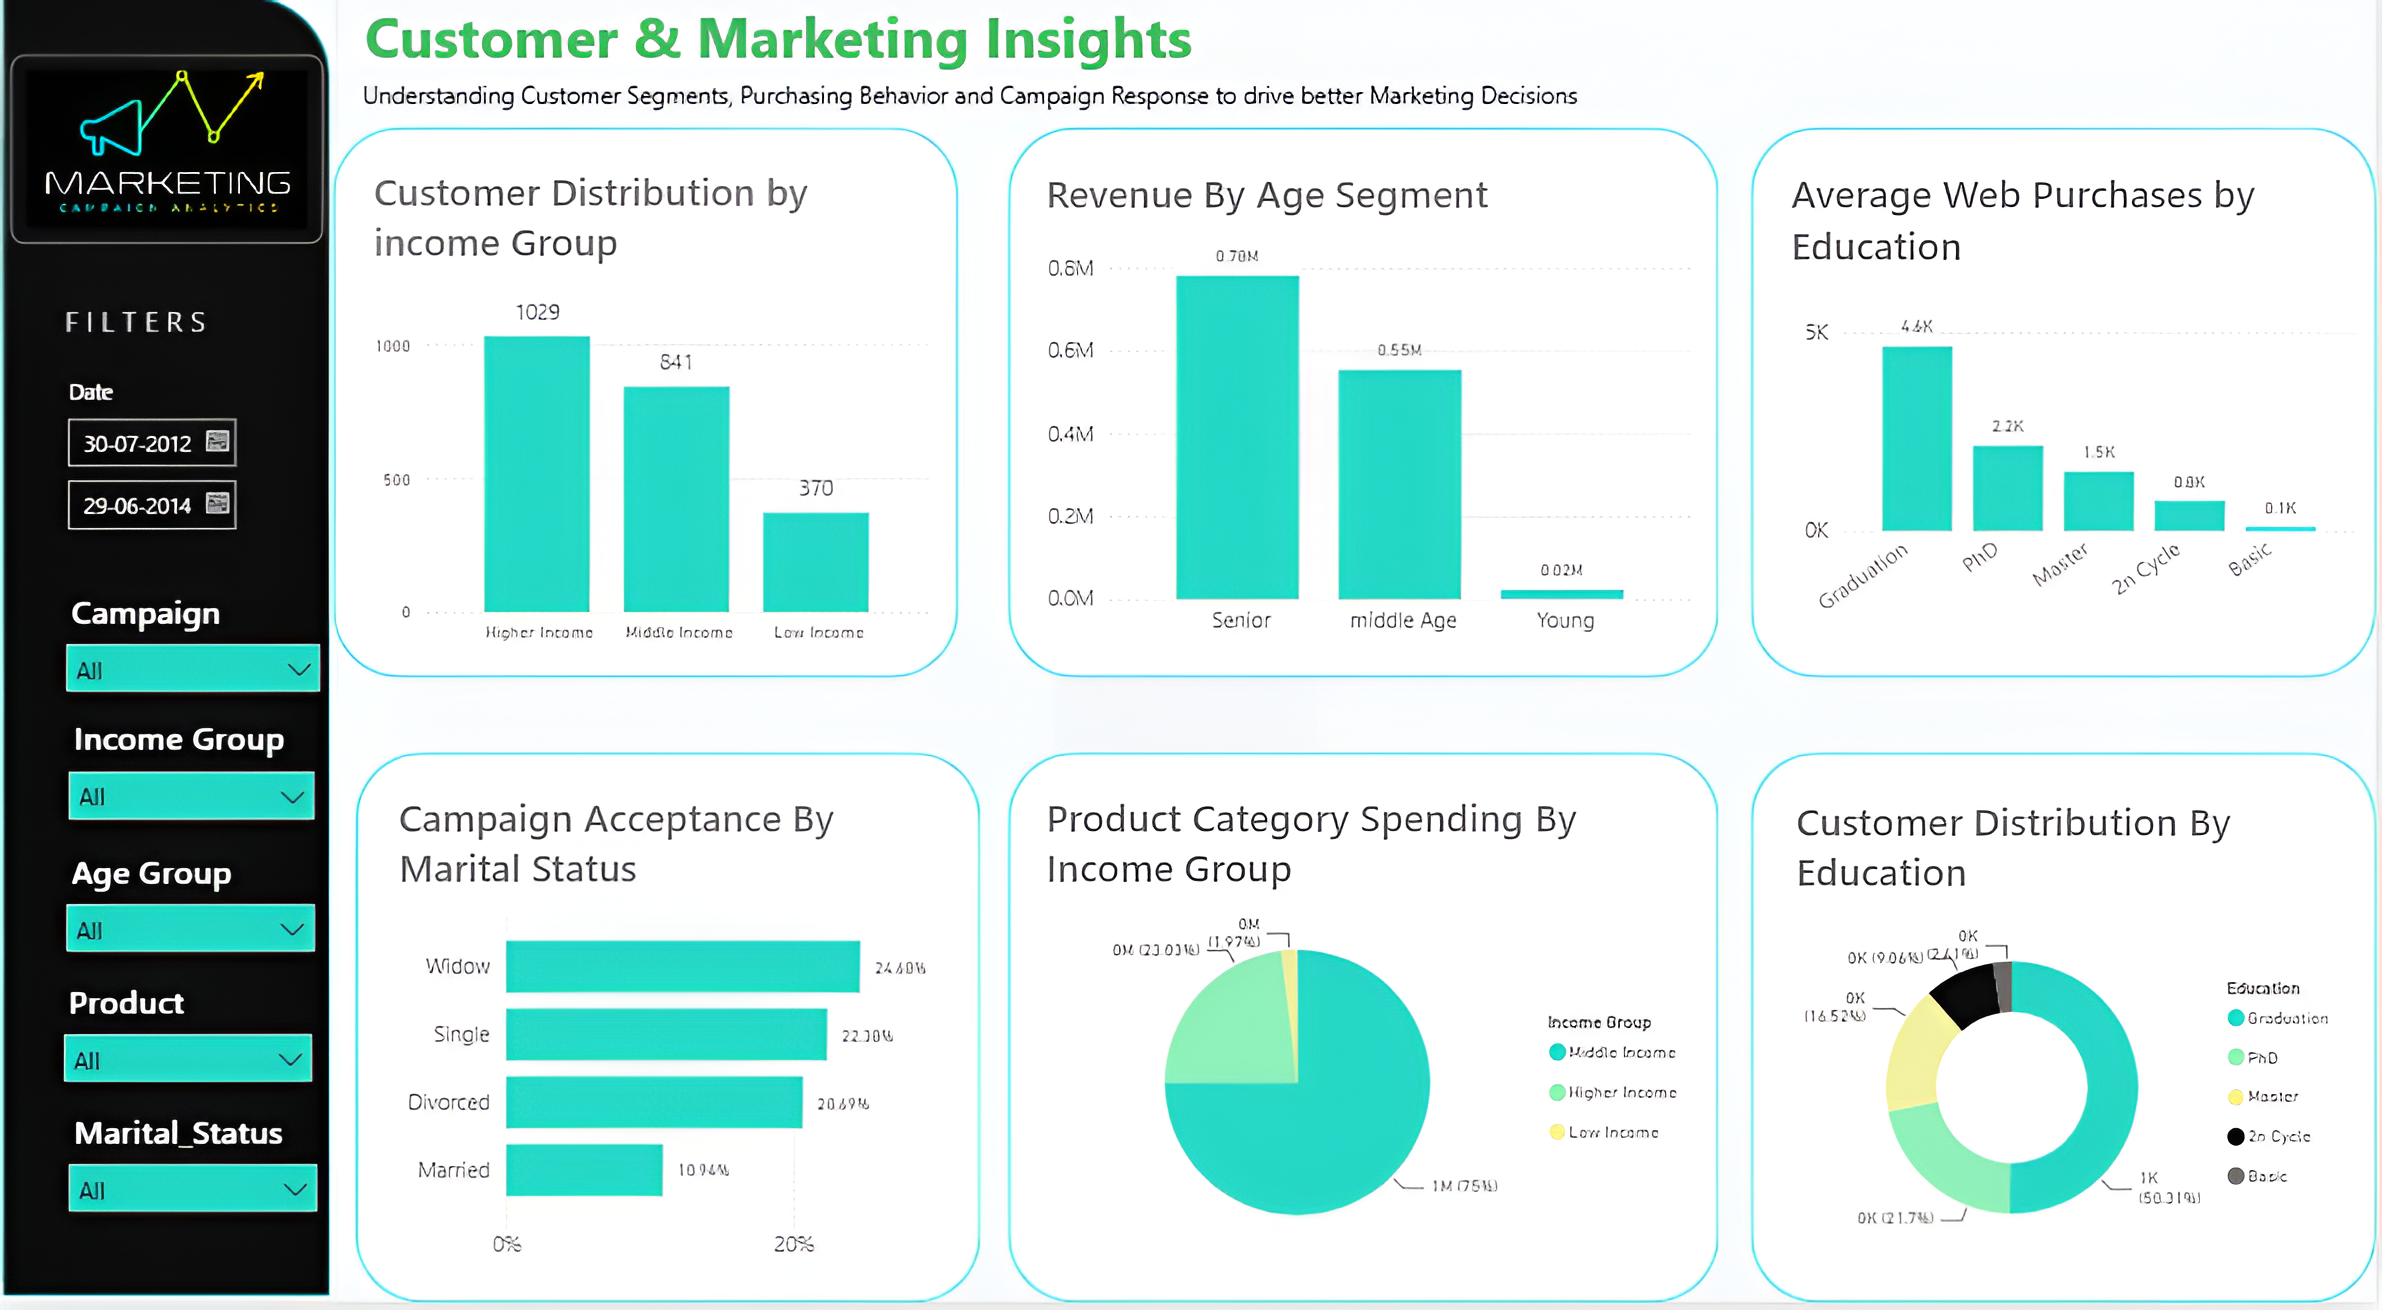

The dashboard page shown, as its layout file describes it:
{"tool":"powerbi","page":{"name":"Customer & Marketing Insights","canvas":[1360,750],"ordinal":1},"visuals":[{"type":"textbox","box":[30.8,45.5,48.7,20],"z":0},{"type":"textbox","box":[206.1,0,742.7,65.3],"z":1000},{"type":"cardVisual","fields":{"Data":["_Measures.Revenue CY vs Revenue LY %"]},"box":[10,10,64.1,35.9],"z":2000},{"type":"shape","box":[0,0,194.9,750.3],"z":3000},{"type":"textbox","box":[34.4,173.2,179.6,44.6],"z":4000},{"type":"slicer","fields":{"Values":["marketing_data.Income Group"]},"box":[31.8,410.2,160.5,75.2],"z":5000},{"type":"slicer","fields":{"Values":["Campaign Analysis.Campaign"]},"box":[29.3,337.6,165.6,76.4],"z":6000},{"type":"slicer","fields":{"Values":["Product Analysis.Product"]},"box":[28.9,560.5,162.1,75.4],"z":7000},{"type":"slicer","fields":{"Values":["marketing_data.Age Group"]},"box":[30.6,485.3,161.8,75.2],"z":9000},{"type":"slicer","fields":{"Values":["marketing_data.Marital_Status"]},"box":[31.4,634.6,162.1,75.4],"z":11000},{"type":"textbox","box":[204.8,45.2,716.3,31.4],"z":12000},{"type":"shape","box":[192.3,77.9,356.9,314.2],"z":13000},{"type":"shape","box":[206.1,436.1,356.9,314.2],"z":14000},{"type":"shape","box":[578.1,77.9,405.9,314.2],"z":15000},{"type":"shape","box":[578.1,436.1,405.9,314.2],"z":16000},{"type":"shape","box":[1002.9,77.9,356.9,314.2],"z":17000},{"type":"shape","box":[1003.1,435.8,356.9,314.2],"z":18000},{"type":"columnChart","title":"Customer Distribution by income Group","fields":{"Category":["marketing_data.Income Group"],"Y":["marketing_data.Total Customers"]},"box":[206.1,90.5,328,290.3],"z":19000},{"type":"clusteredColumnChart","title":"Revenue By Age Segment","fields":{"Category":["marketing_data.Age Group"],"Y":["marketing_data.Revenuee"]},"box":[590.7,91.7,380.8,286.5],"z":20000},{"type":"clusteredColumnChart","title":"Average Web Purchases by Education","fields":{"Category":["marketing_data.Education"],"Y":["marketing_data.Web Purchases"]},"box":[1015.4,91.7,331.8,286.5],"z":21000},{"type":"clusteredBarChart","title":"Campaign Acceptance By Marital Status","fields":{"Category":["marketing_data.Marital_Status"],"Y":["marketing_data.Campaign Acceptance Rate"]},"box":[219.9,447.4,329.3,287.8],"z":22000},{"type":"pieChart","title":"Product Category  Spending By Income Group","fields":{"Category":["marketing_data.Income Group"],"Y":["marketing_data.Spend"]},"box":[590.7,447.4,380.8,286.5],"z":23000},{"type":"donutChart","title":"Customer Distribution By Education","fields":{"Category":["marketing_data.Education"],"Y":["marketing_data.Total Customers"]},"box":[1019.2,449.9,324.2,286.5],"z":24000},{"type":"image","box":[8.8,37.7,178.5,108.1],"z":24001},{"type":"slicer","fields":{"Values":["marketing_data.Dt_Customer"]},"box":[28.9,217.4,126.9,96.8],"z":24002}]}

Visuals, with their boxes in screenshot pixels (x1, y1, x2, y2), scaled from the page's 1360x750 canvas onto the 2382x1310 screenshot:
textbox: box(54, 79, 139, 114)
textbox: box(361, 0, 1662, 114)
cardVisual - _Measures.Revenue CY vs Revenue LY %: box(18, 17, 130, 80)
shape: box(0, 0, 341, 1309)
textbox: box(60, 303, 375, 380)
slicer - marketing_data.Income Group: box(56, 716, 337, 848)
slicer - Campaign Analysis.Campaign: box(51, 590, 341, 723)
slicer - Product Analysis.Product: box(51, 979, 335, 1111)
slicer - marketing_data.Age Group: box(54, 848, 337, 979)
slicer - marketing_data.Marital_Status: box(55, 1108, 339, 1240)
textbox: box(359, 79, 1613, 134)
shape: box(337, 136, 962, 685)
shape: box(361, 762, 986, 1309)
shape: box(1013, 136, 1723, 685)
shape: box(1013, 762, 1723, 1309)
shape: box(1757, 136, 2381, 685)
shape: box(1757, 761, 2381, 1309)
"Customer Distribution by income Group" columnChart: box(361, 158, 935, 665)
"Revenue By Age Segment" clusteredColumnChart: box(1035, 160, 1702, 661)
"Average Web Purchases by Education" clusteredColumnChart: box(1778, 160, 2360, 661)
"Campaign Acceptance By Marital Status" clusteredBarChart: box(385, 781, 962, 1284)
"Product Category  Spending By Income Group" pieChart: box(1035, 781, 1702, 1282)
"Customer Distribution By Education" donutChart: box(1785, 786, 2353, 1286)
image: box(15, 66, 328, 255)
slicer - marketing_data.Dt_Customer: box(51, 380, 273, 549)
